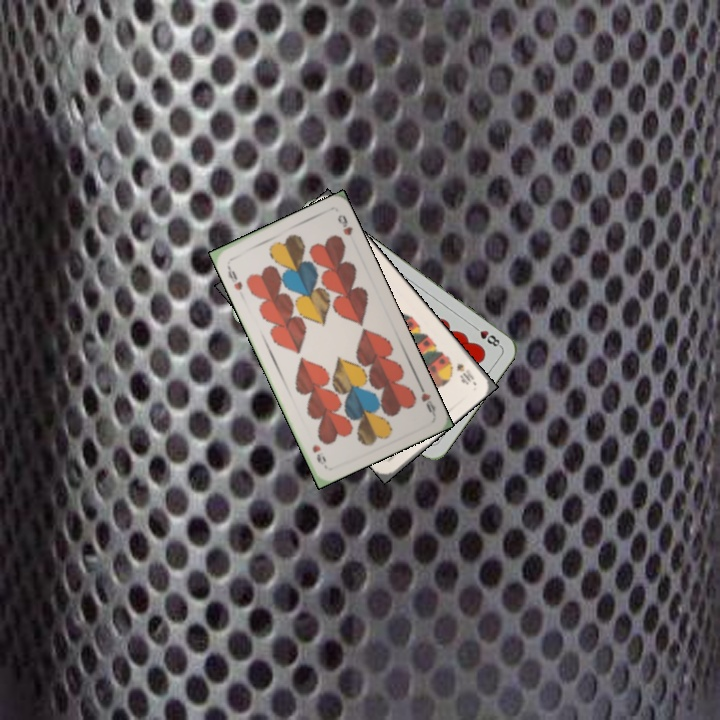H8: (468, 321, 503, 349)
H9: (414, 379, 438, 416), (223, 259, 245, 293)
S10: (452, 359, 477, 387)
